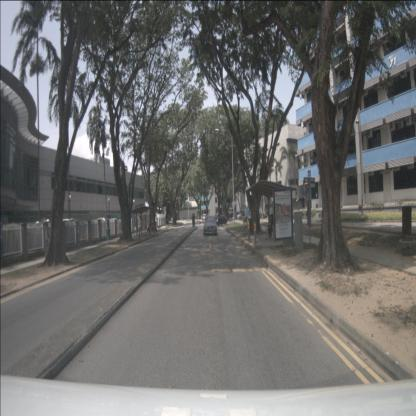human-pedestrian-adult: (264, 214, 274, 241), (264, 214, 272, 238), (193, 213, 195, 227), (192, 213, 194, 227)
vehicle-car: (203, 216, 217, 236), (214, 215, 227, 226), (237, 212, 247, 219), (202, 213, 207, 221)
